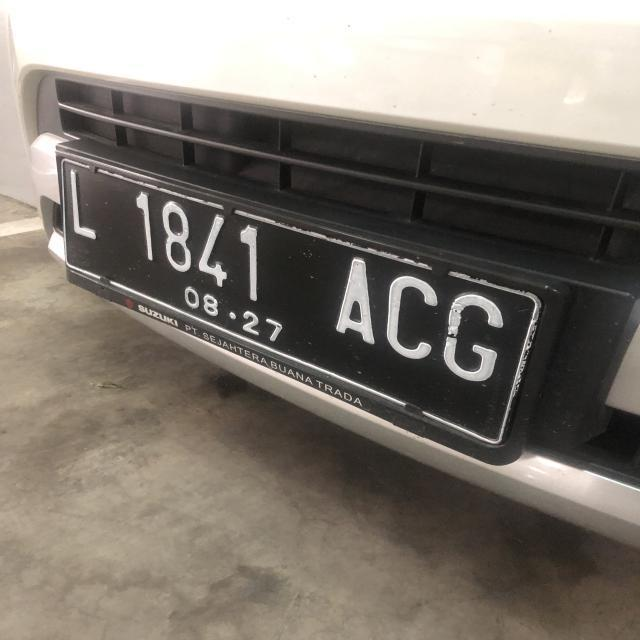1: (238, 218, 266, 310), (130, 193, 158, 262)
4: (198, 214, 233, 290)
8: (156, 198, 193, 274)
A: (329, 257, 378, 349)
C: (382, 270, 439, 366)
G: (442, 290, 505, 380)
L: (66, 168, 108, 242)
